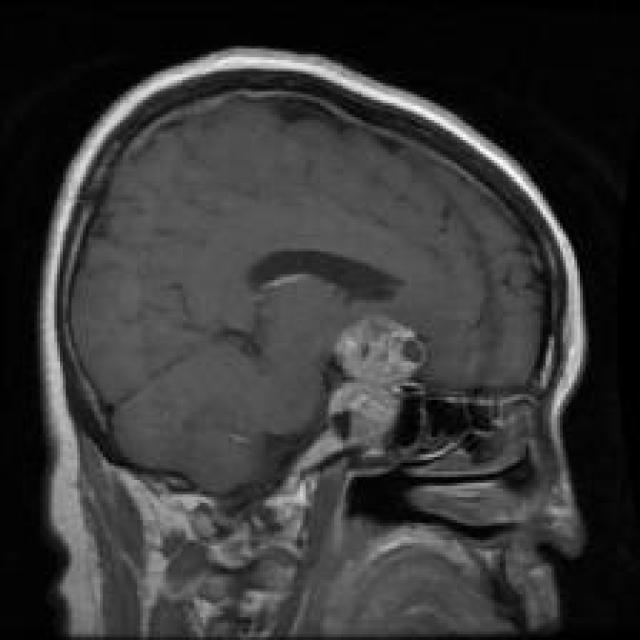pituitary_tumor: (302, 298, 437, 469)
